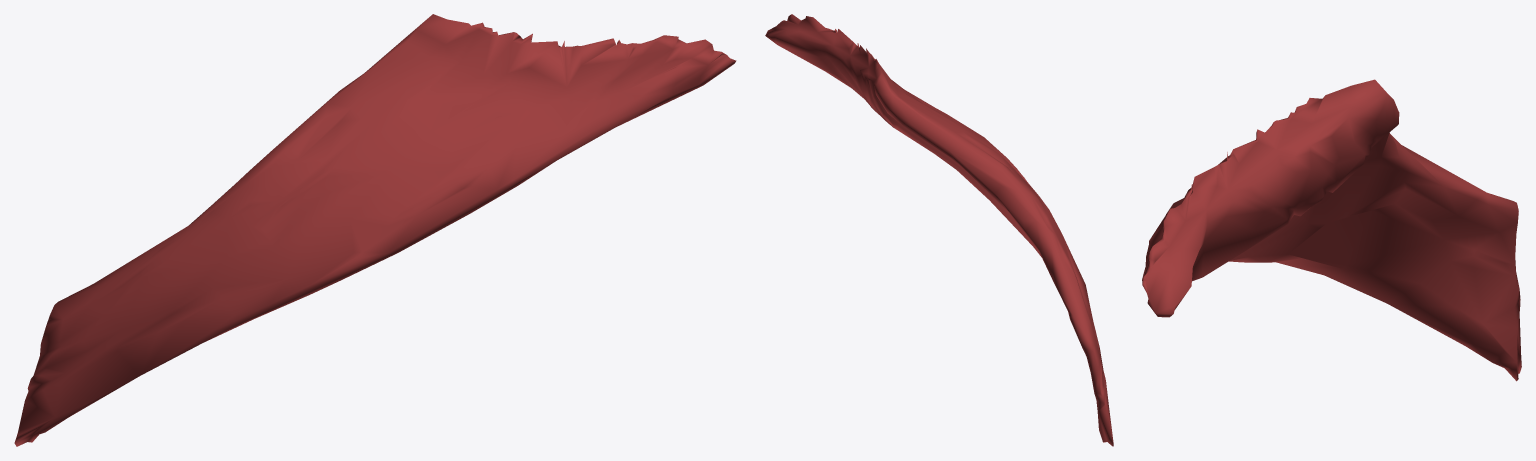
Rendered from clavicular-head-of-pectoralis-major-muscle-r.glb.
3 views of the same model, side by side, from view 1: azimuth 30°, elevation 25°; view 2: azimuth 150°, elevation 25°; view 3: azimuth 270°, elevation 25° (orthographic). The views are drawn at different scales.
Parts seen in each view (by area): view 1: Clavicular head of pectoralis major muscle.r; view 2: Clavicular head of pectoralis major muscle.r; view 3: Clavicular head of pectoralis major muscle.r.
Part boxes in pixels (<box>): Clavicular head of pectoralis major muscle.r: <box>14,14,736,446</box>; Clavicular head of pectoralis major muscle.r: <box>765,14,1113,446</box>; Clavicular head of pectoralis major muscle.r: <box>1142,79,1521,381</box>.
Bounding box in the file's own units: 0.1734 × 0.1056 × 0.0652.
